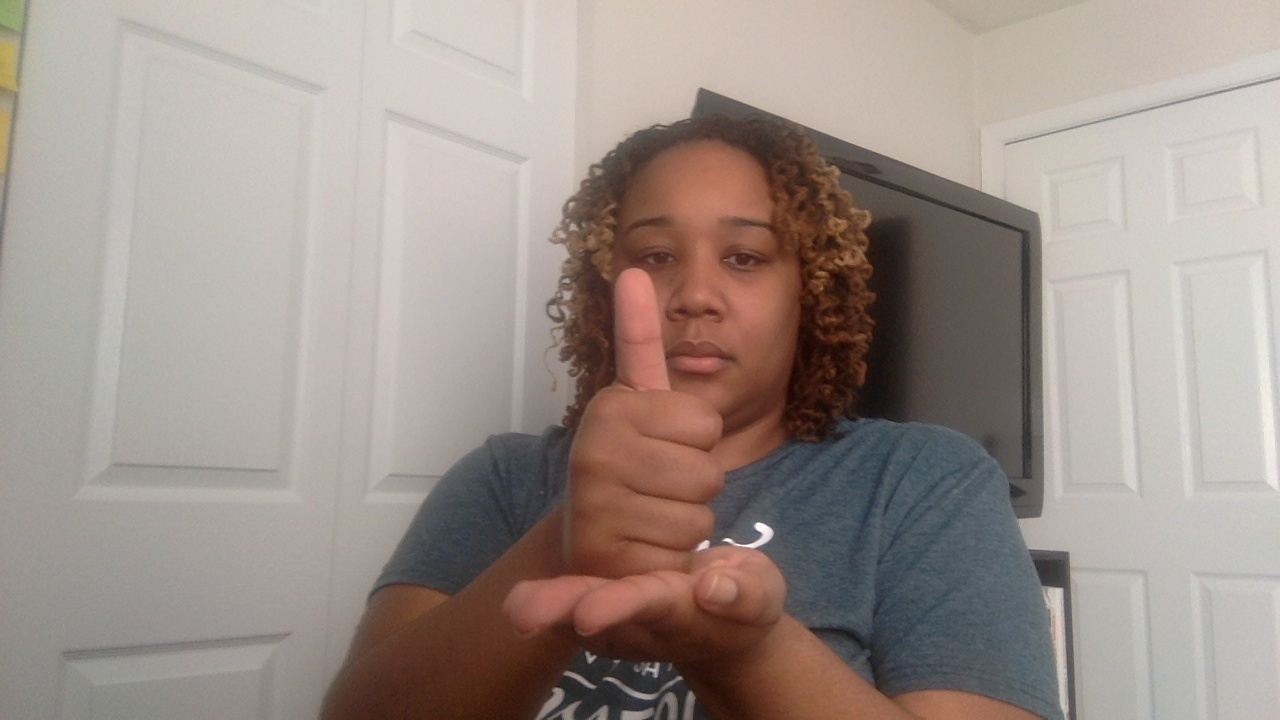help: (465, 266, 789, 718)
